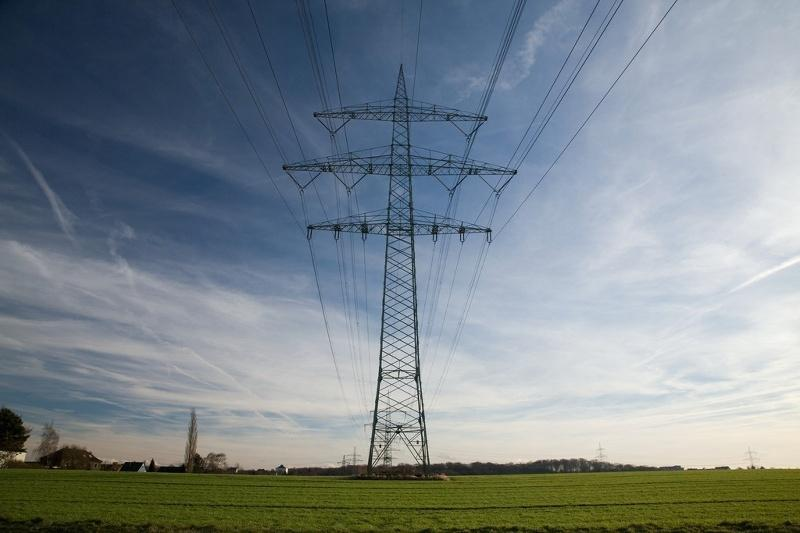power_tower: (286, 67, 512, 477), (362, 390, 410, 463), (590, 440, 611, 461), (346, 443, 363, 465), (337, 454, 351, 466)
